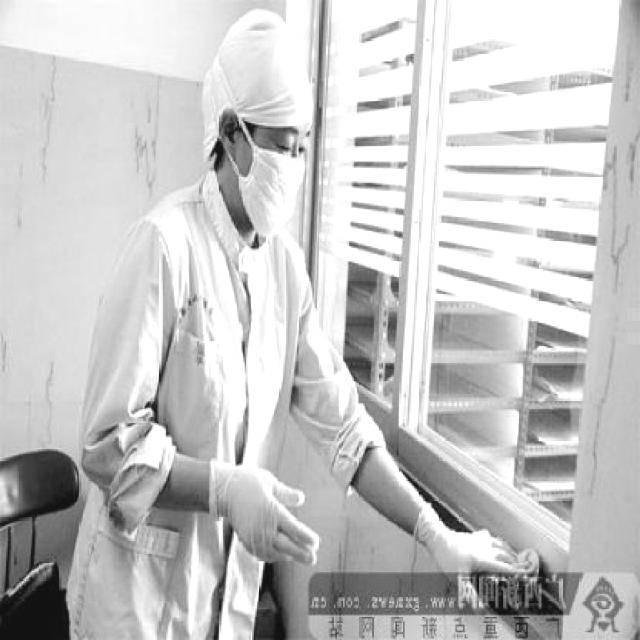face_mask: (235, 117, 317, 240)
hand_glove: (234, 463, 323, 563), (429, 523, 526, 612)
head_nohelmet: (234, 20, 314, 146)
person: (49, 14, 546, 640)
